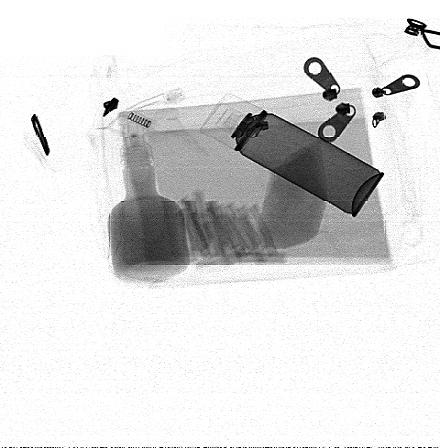Sprayer: (200, 93, 385, 219)
